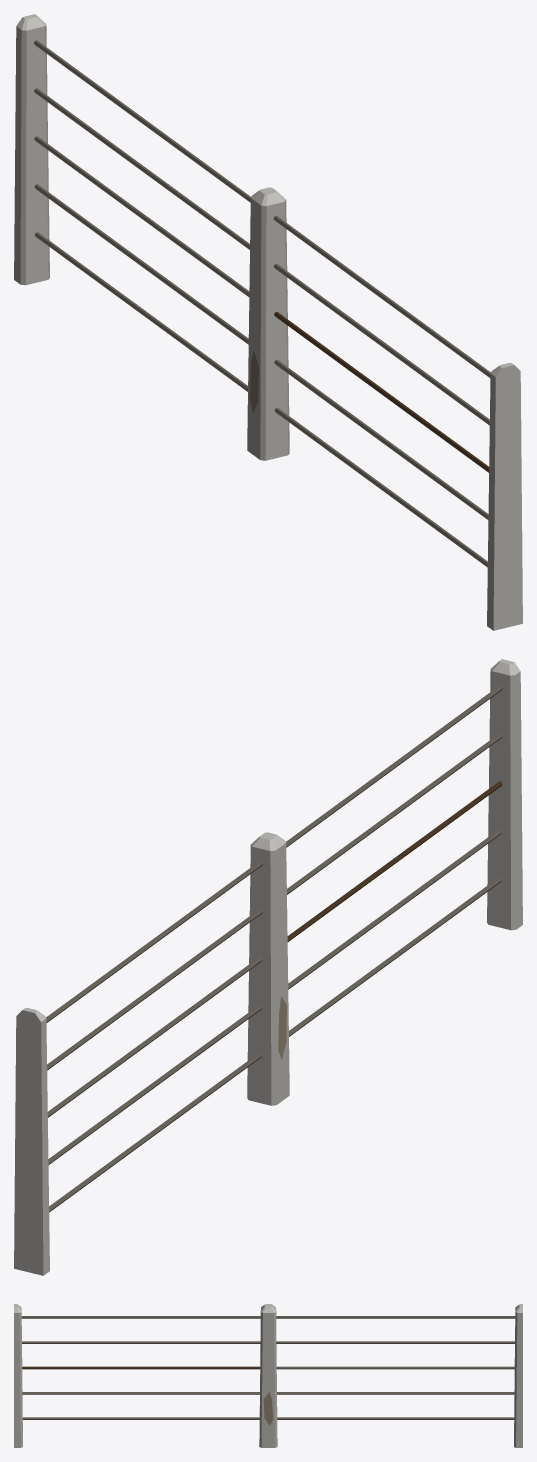
Rendered from lineside-fence-run-3a64f5.glb.
The picture shows the model from 3 angles, top to bottom: view 1: azimuth 30°, elevation 25°; view 2: azimuth 150°, elevation 25°; view 3: azimuth 270°, elevation 25°; orthographic projection. The views are drawn at different scales.
Parts seen in each view (by area): view 1: lineside-fence; view 2: lineside-fence; view 3: lineside-fence.
Part boxes in pixels (left/top/right/bottom): lineside-fence: left=14, top=14, right=522, bottom=630; lineside-fence: left=14, top=659, right=522, bottom=1275; lineside-fence: left=14, top=1304, right=522, bottom=1447.
Bounding box in the file's own units: 0.1419 × 1.2 × 4.
